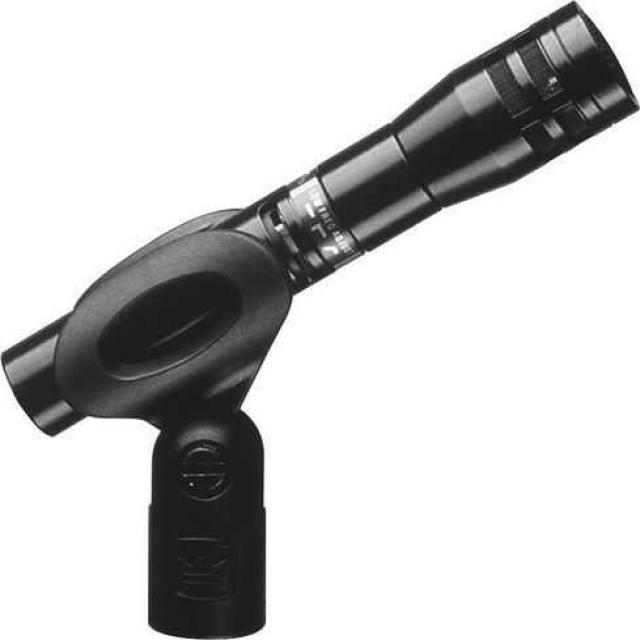microphone: (3, 5, 640, 396)
